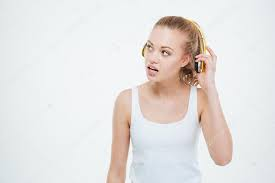Humano: (106, 15, 234, 183)
